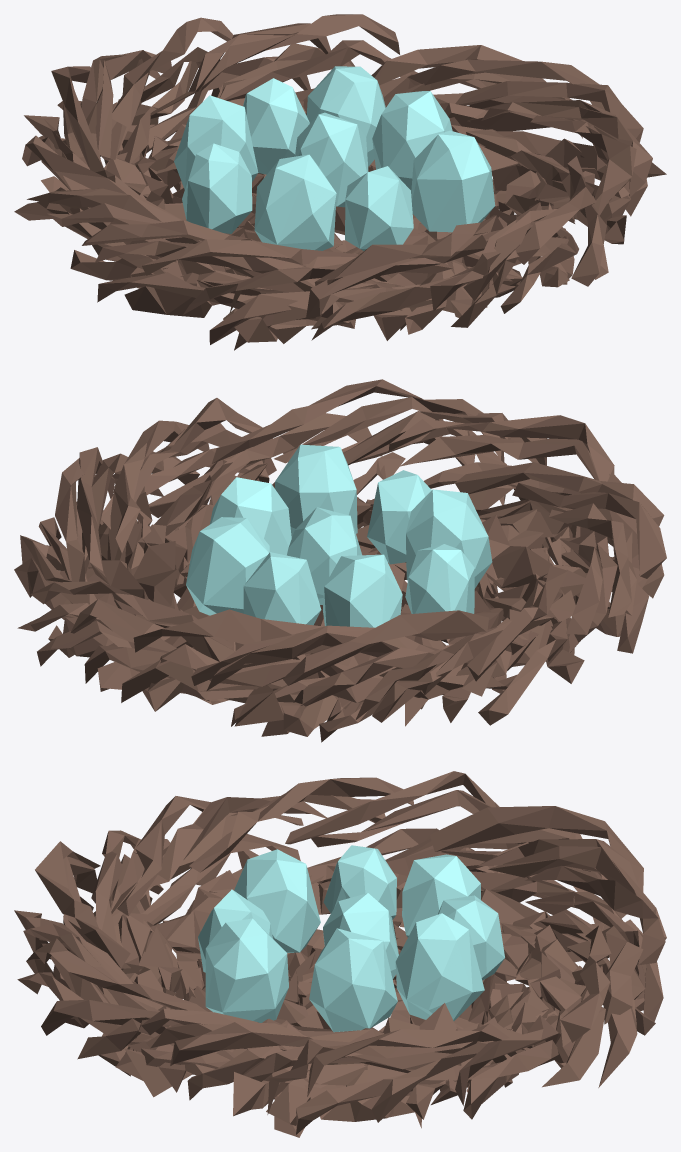
Rendered from Nest_24.fbx.
3 renders of one model, top to bottom at view 1: azimuth 30°, elevation 25°; view 2: azimuth 150°, elevation 25°; view 3: azimuth 270°, elevation 25°, orthographic. The views are drawn at different scales.
Parts seen in each view (by area): view 1: Nest_24_LOD0; view 2: Nest_24_LOD0; view 3: Nest_24_LOD0.
Boxes of the visible parts, x1=… form: Nest_24_LOD0: x1=14, y1=14, x2=666, y2=350; Nest_24_LOD0: x1=14, y1=379, x2=666, y2=742; Nest_24_LOD0: x1=14, y1=771, x2=666, y2=1137.
Size of what is drawn, in the model's own units: 63.31 by 16.7 by 63.2.
